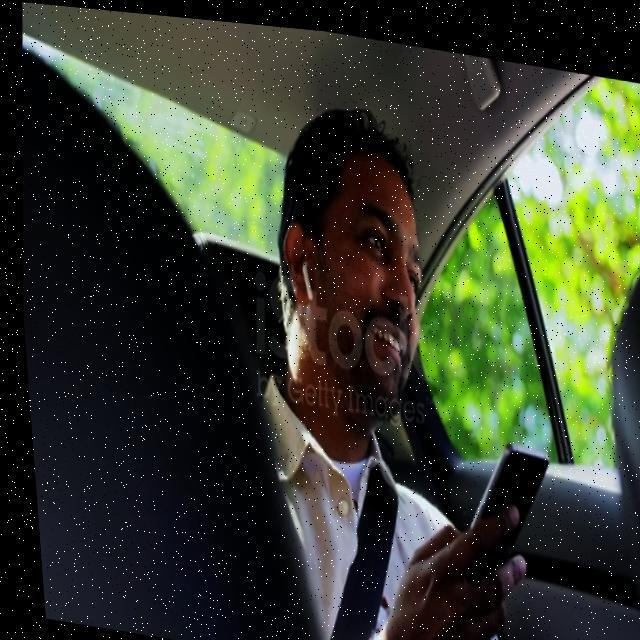PhoneCall: (444, 420, 548, 582)
